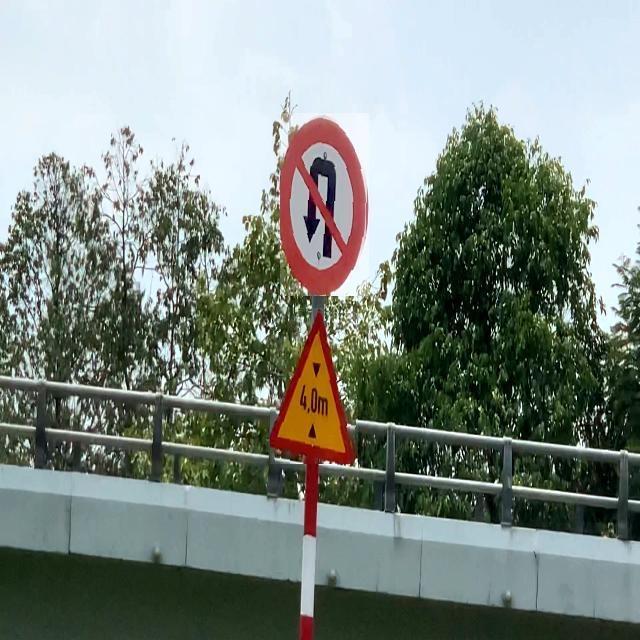P-124a: (280, 113, 369, 296)
S-509a: (270, 308, 358, 464)
